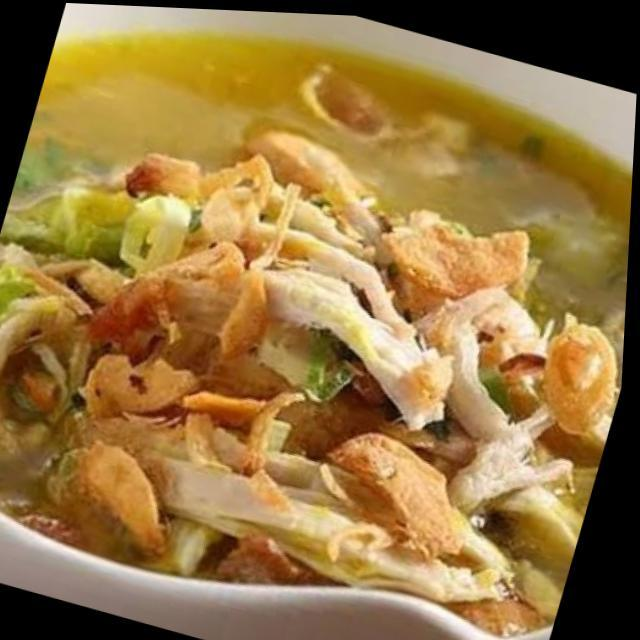Soto: (0, 71, 621, 636)
